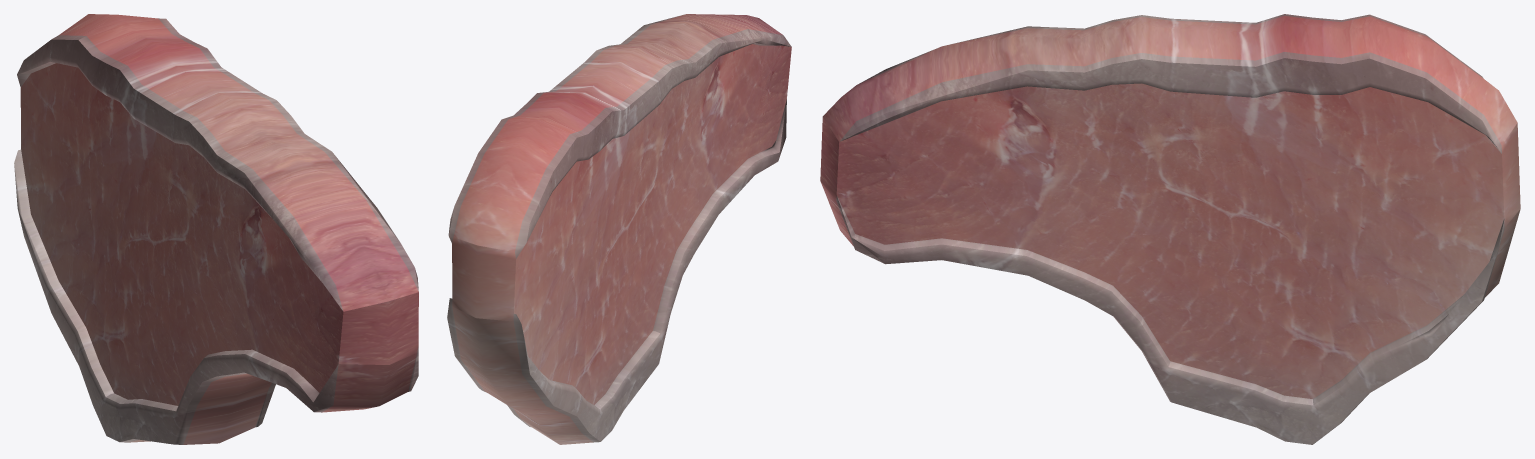
File: Steak.obj
The picture shows the model from 3 angles, left to right: view 1: azimuth 30°, elevation 25°; view 2: azimuth 150°, elevation 25°; view 3: azimuth 270°, elevation 25°; orthographic projection. The views are drawn at different scales.
Parts seen in each view (by area): view 1: pCube1; view 2: pCube1; view 3: pCube1.
Part boxes in pixels (x1,y1,x2,y2): pCube1: [14, 14, 418, 444]; pCube1: [447, 14, 791, 444]; pCube1: [820, 14, 1520, 444].
Size of the model in its own units: 11.51 by 47.79 by 73.93.
2 materials, 2 textured.
